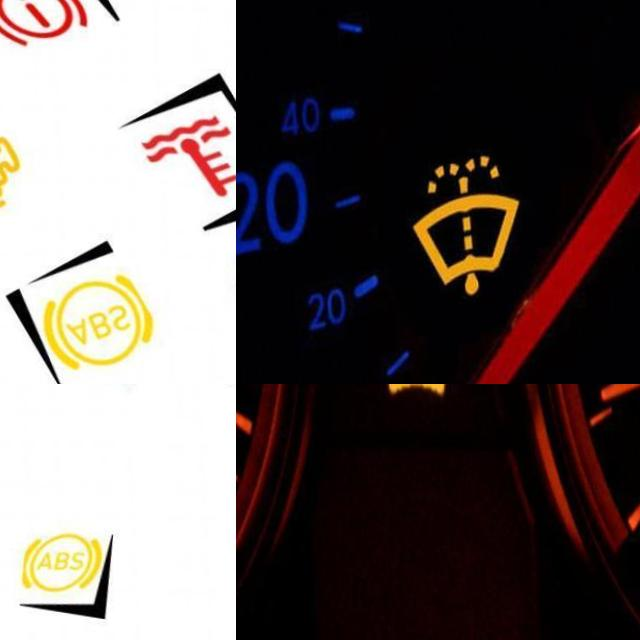Washer Fluid: (406, 153, 525, 296)
